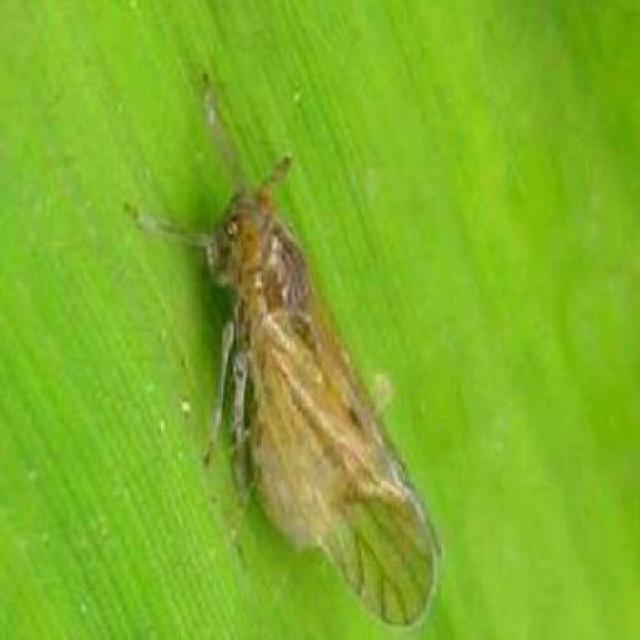brown-planthopper: (156, 156, 438, 631)
